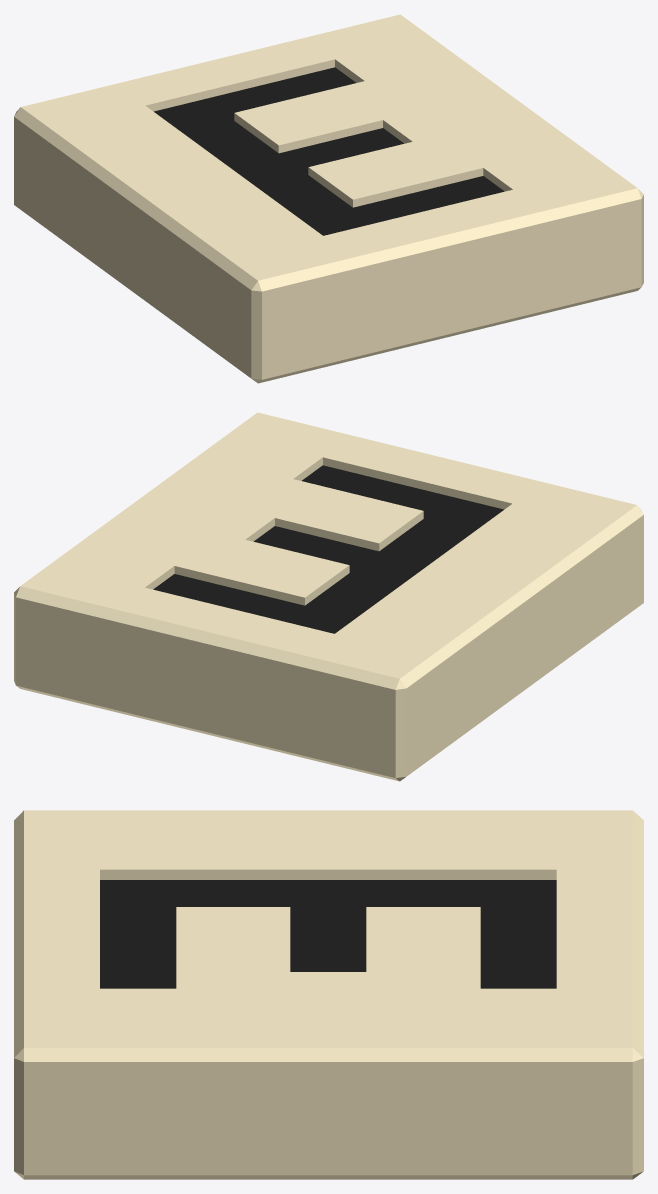
File: Boardgame_Piece_Anagram_Letter_E_01.fbx
3 renders of one model, top to bottom at view 1: azimuth 30°, elevation 25°; view 2: azimuth 150°, elevation 25°; view 3: azimuth 270°, elevation 25°, orthographic. The views are drawn at different scales.
Visible parts, largest first — view 1: Boardgame_Piece_Anagram_Letter_E_01; view 2: Boardgame_Piece_Anagram_Letter_E_01; view 3: Boardgame_Piece_Anagram_Letter_E_01.
Part boxes in pixels (x1,y1,x2,y2): Boardgame_Piece_Anagram_Letter_E_01: [14, 14, 643, 383]; Boardgame_Piece_Anagram_Letter_E_01: [14, 412, 643, 781]; Boardgame_Piece_Anagram_Letter_E_01: [14, 810, 643, 1179].
Size of the model in its own units: 1000 by 250 by 1083.
